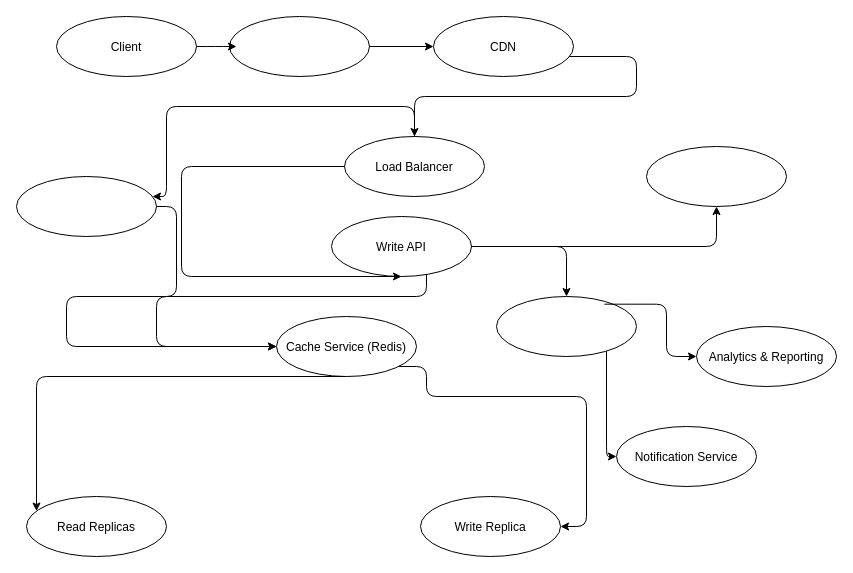
Some shapes in this 853 by 573 pixel diagram are drawn without their labels. The box of each missing label's shape, as (x1, y1, x2, y2) in pixels:
DNS: (228, 16, 370, 76)
Object Storage (S3): (646, 146, 786, 206)
Read API: (16, 176, 156, 236)
Workers: (496, 296, 636, 356)
